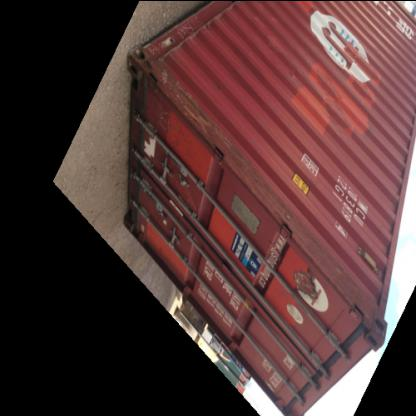Damage: (304, 221, 376, 330), (164, 53, 223, 153), (233, 136, 291, 231), (127, 130, 159, 168), (126, 179, 150, 207)
